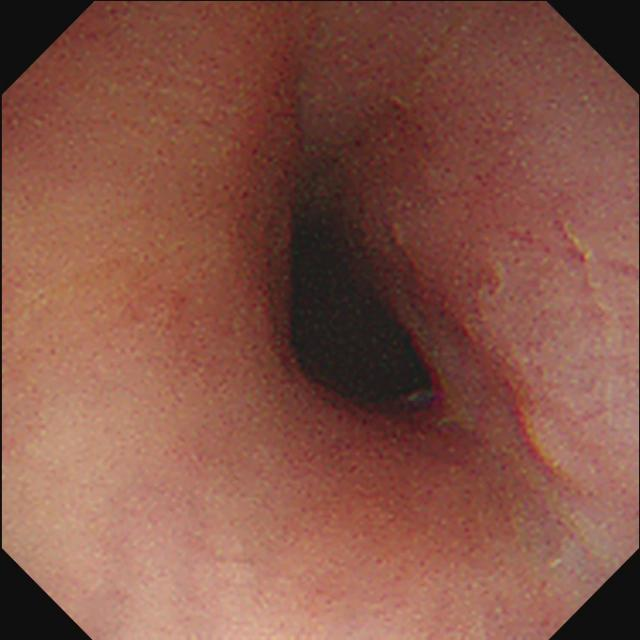E: (289, 209, 438, 409)
